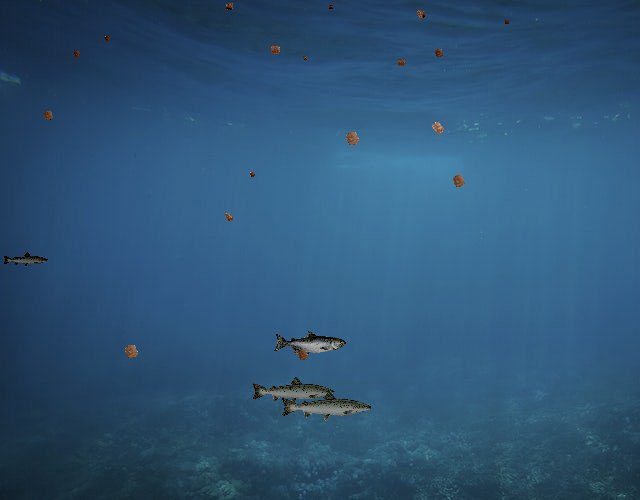Fish: (279, 390, 373, 424), (250, 375, 336, 406), (274, 331, 347, 357), (2, 251, 49, 268)
Pellet: (117, 337, 145, 365), (424, 115, 451, 142), (446, 168, 472, 194), (292, 344, 314, 366), (220, 208, 238, 226), (246, 169, 258, 181)
